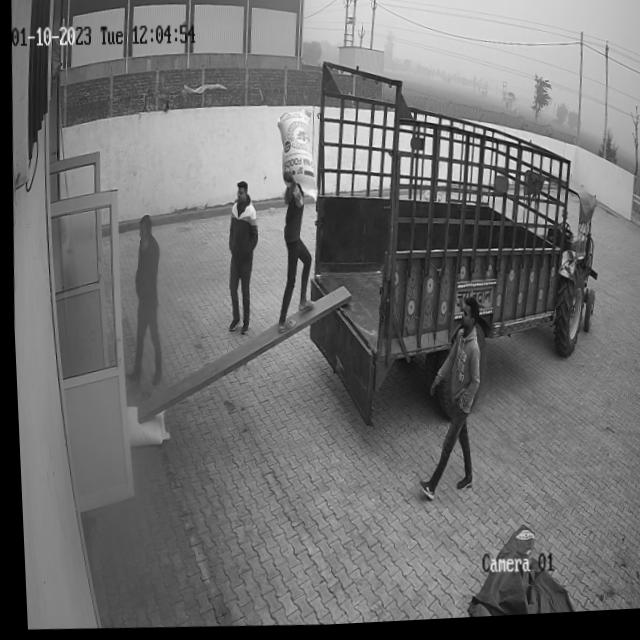sack: (272, 111, 312, 191), (121, 405, 167, 446)
